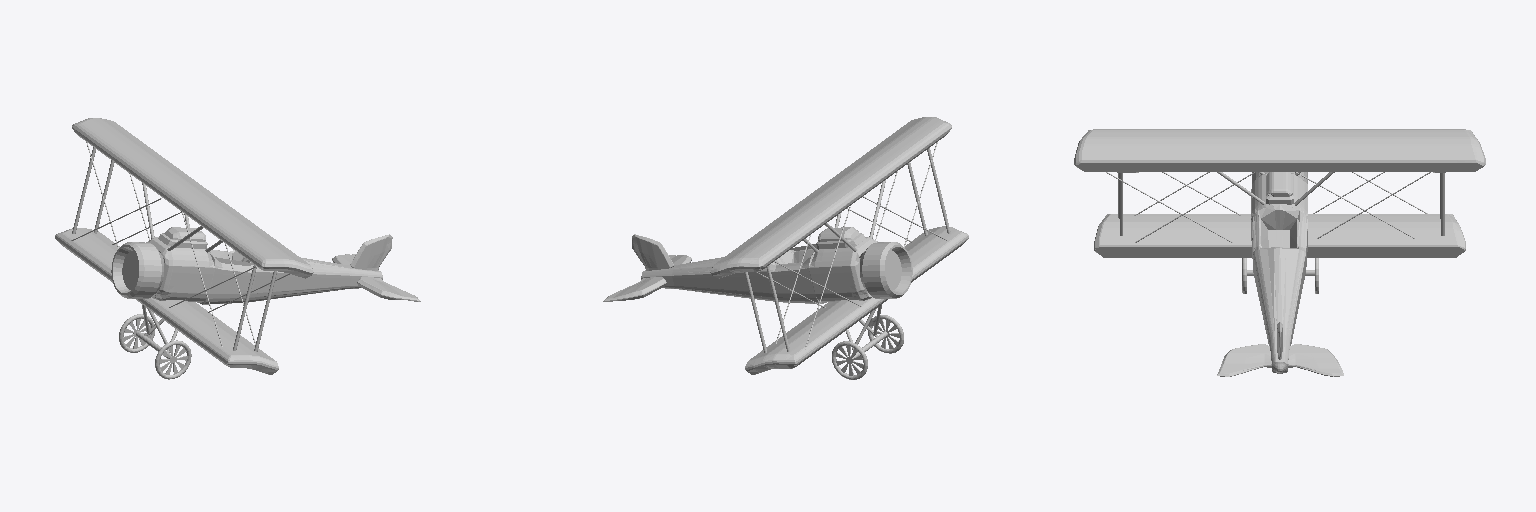
File: plane_body2.obj
3 views of the same model, side by side, from view 1: azimuth 30°, elevation 25°; view 2: azimuth 150°, elevation 25°; view 3: azimuth 270°, elevation 25° (orthographic).
Size of the model in its own units: 41.32 by 24.75 by 53.94.